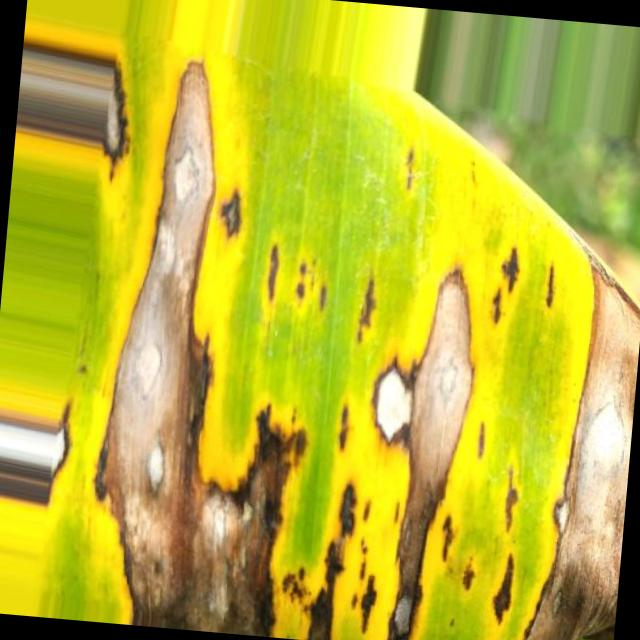Banana_Yellow_Sigatoka: (99, 66, 352, 640), (333, 165, 606, 640)
